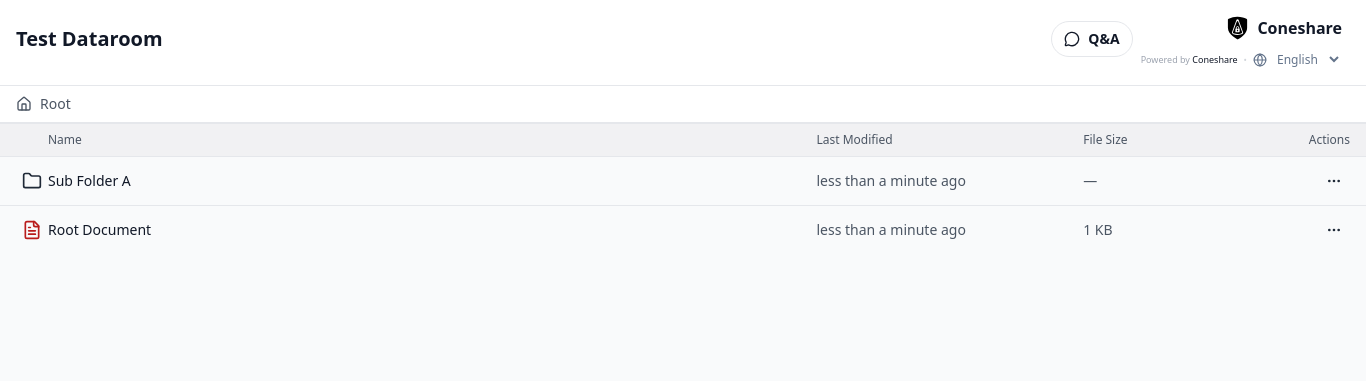
Test: DataroomViewer › includes view_session_id when downloading a dataroom document
Press Enter in the button named "actions for root document", box [1318,214,1350,246]
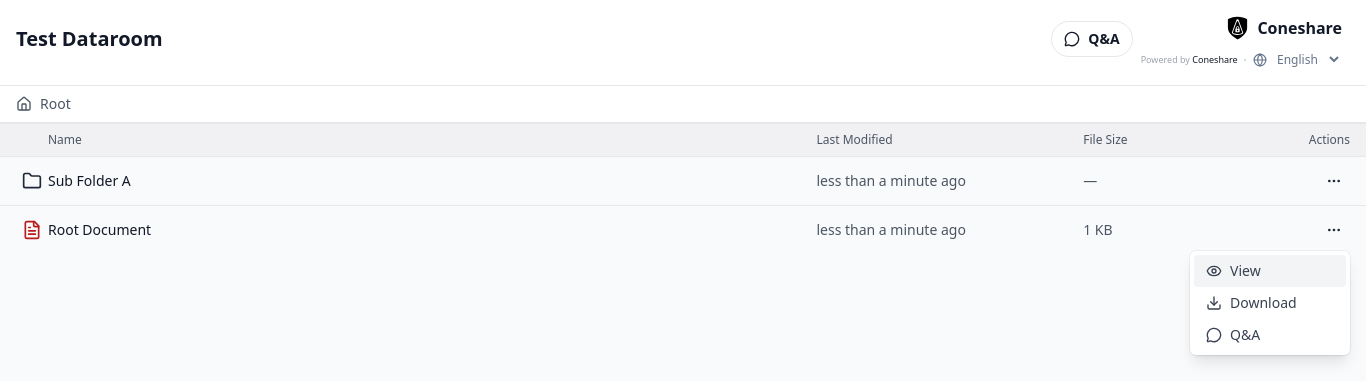
Click the menu item "Download": point(1251, 302) [1206,293,1297,312]
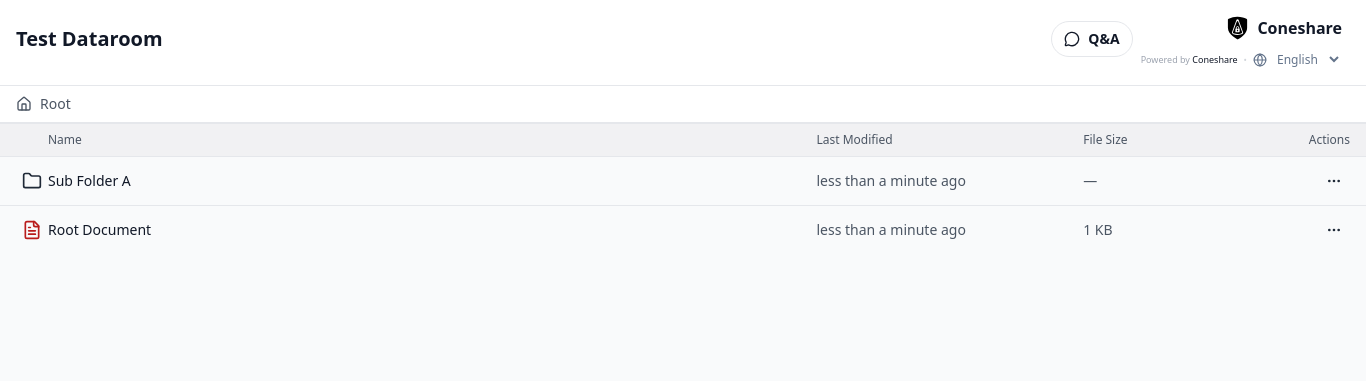
Result: the menu item "Download" is gone
